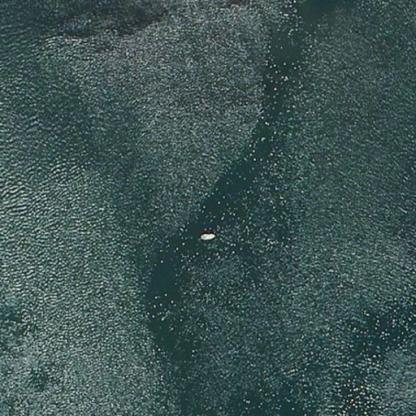ship: (207, 231, 209, 241)
